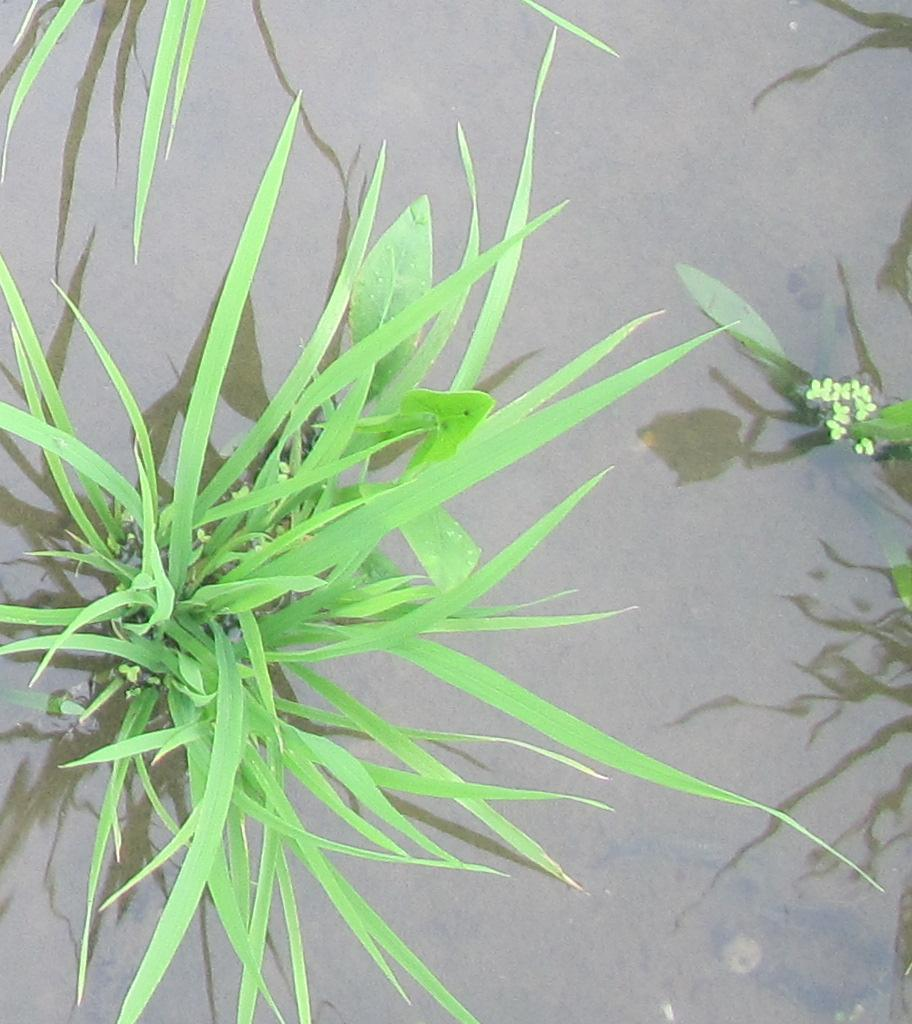Weed: (341, 191, 497, 477)
